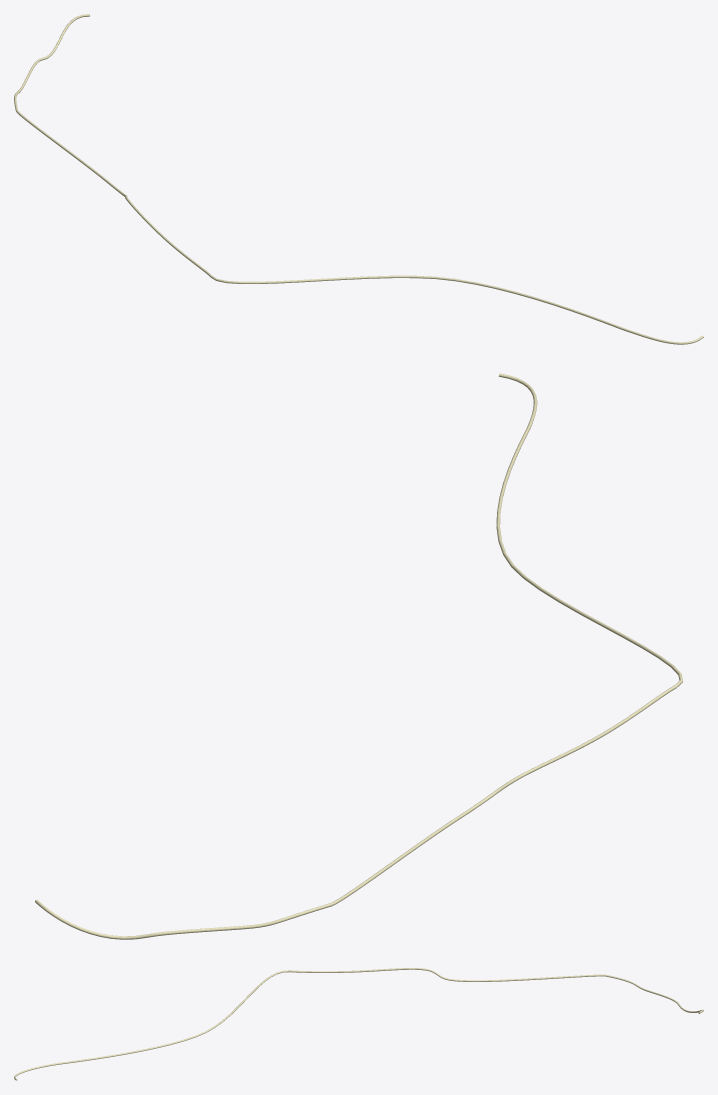
File: Keyboard-kabel1.fbx
The picture shows the model from 3 angles, top to bottom: view 1: azimuth 30°, elevation 25°; view 2: azimuth 150°, elevation 25°; view 3: azimuth 270°, elevation 25°; orthographic projection. The views are drawn at different scales.
Visible parts, largest first — view 1: Keyboard-kabel1; view 2: Keyboard-kabel1; view 3: Keyboard-kabel1.
Part boxes in pixels (x1,y1,x2,y2): Keyboard-kabel1: [14, 14, 703, 344]; Keyboard-kabel1: [35, 373, 682, 939]; Keyboard-kabel1: [14, 968, 703, 1080].
Bounding box in the file's own units: 116 × 8.85 × 307.
